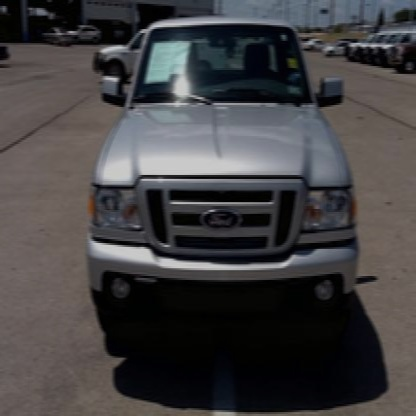Vehicle: (86, 19, 361, 352)
